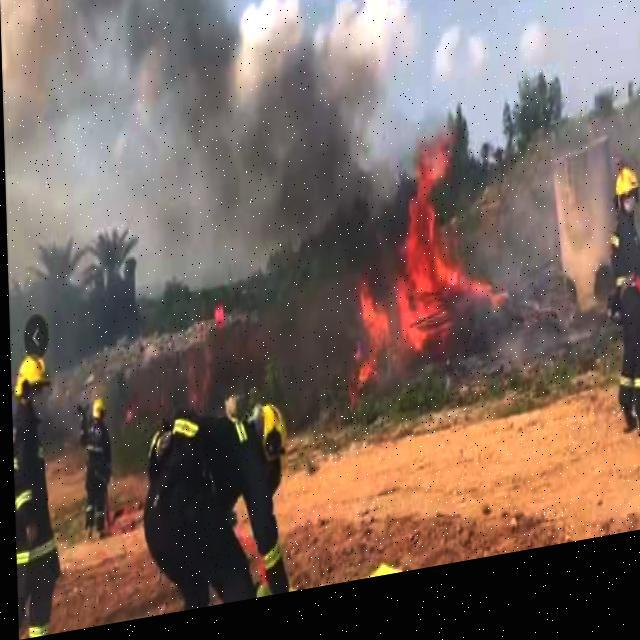Fire: (332, 154, 506, 426)
